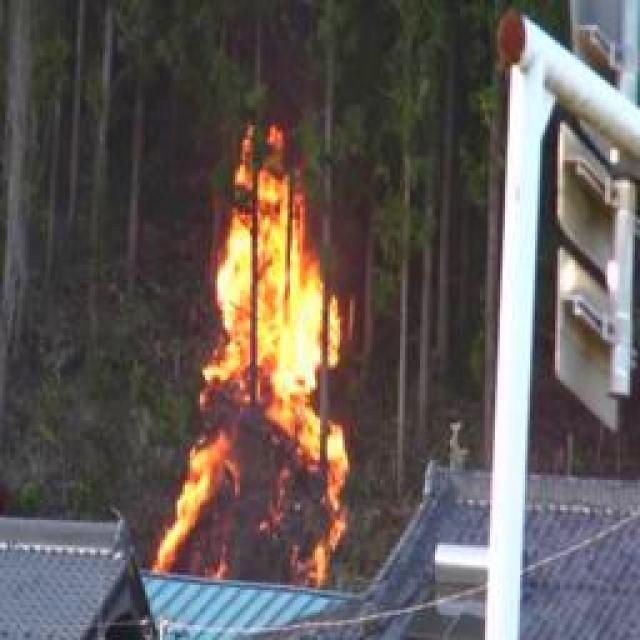Fire: (161, 153, 348, 589)
